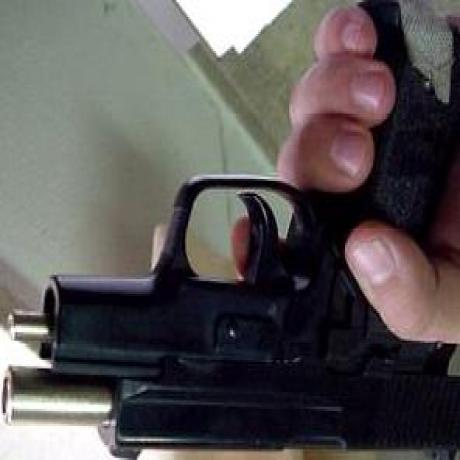1: (228, 0, 458, 345)
weapon: (1, 122, 460, 447)
